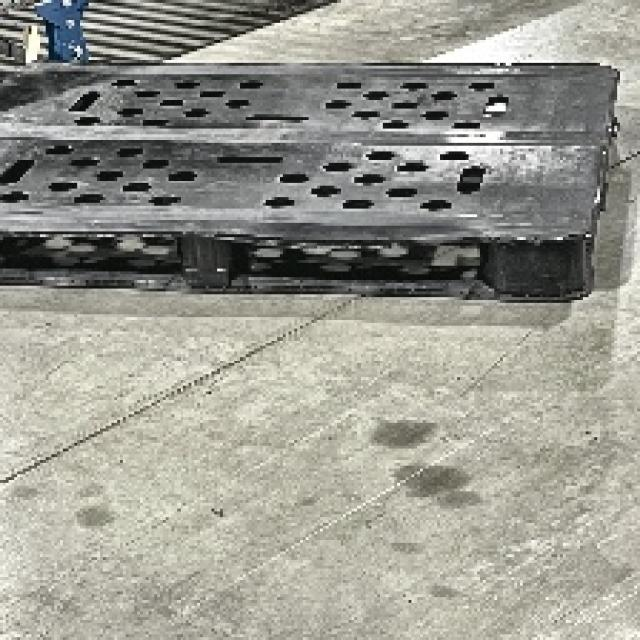igps: (0, 55, 624, 308)
